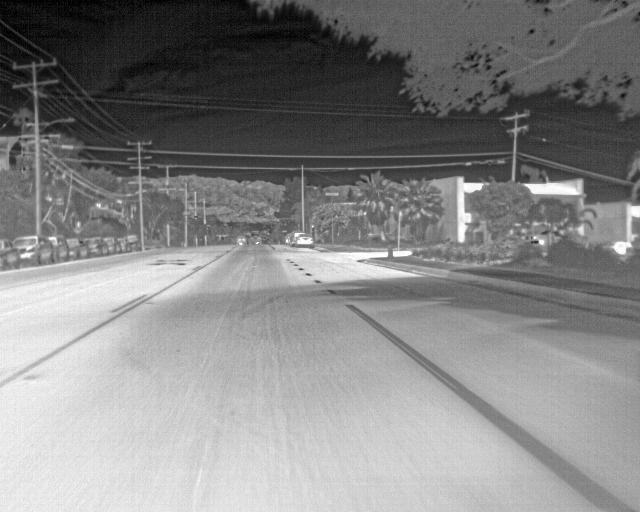car: (10, 236, 55, 266), (0, 238, 19, 271), (64, 236, 88, 259), (48, 236, 71, 260), (84, 237, 106, 256), (292, 233, 313, 248), (100, 235, 117, 253), (126, 233, 142, 252), (115, 236, 128, 254), (284, 232, 297, 245), (236, 235, 246, 246)
